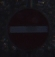No entry: (6, 5, 50, 52)
